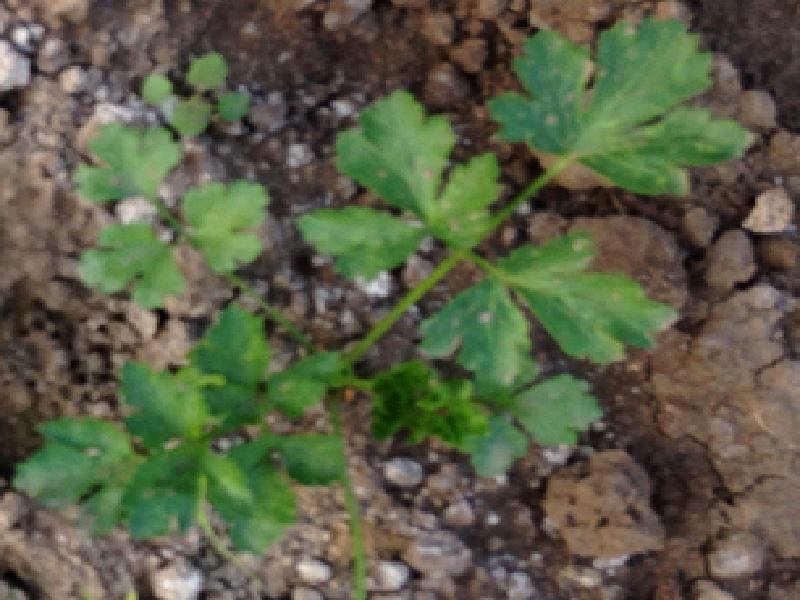radish: (14, 20, 738, 573)
